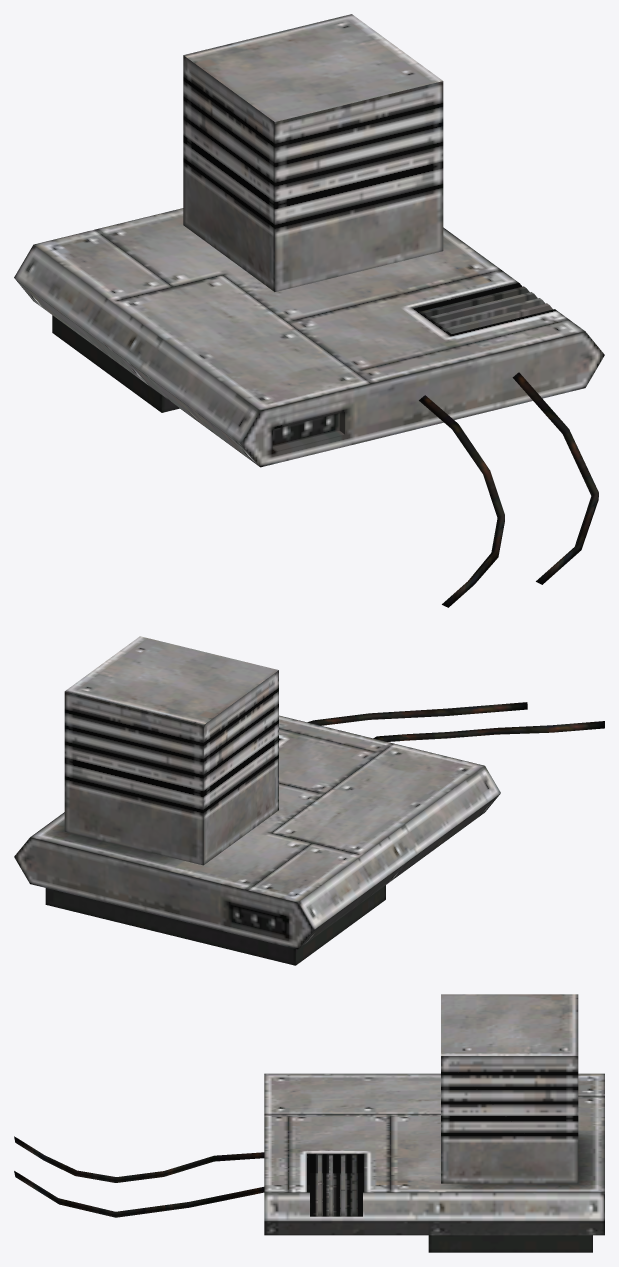
Rendered from eqp_comp_sensor_package_unit.fbx.
3 views of the same model, one above another, from view 1: azimuth 30°, elevation 25°; view 2: azimuth 150°, elevation 25°; view 3: azimuth 270°, elevation 25° (orthographic). The views are drawn at different scales.
Visible parts, largest first — view 1: mesh_node; view 2: mesh_node; view 3: mesh_node.
Part boxes in pixels (x1,y1,x2,y2): mesh_node: (14,14,604,607); mesh_node: (14,636,604,965); mesh_node: (14,994,604,1252).
Size of the model in its own units: 0.3359 by 0.225 by 0.6294.
Materials: 1 (1 with a texture image).
